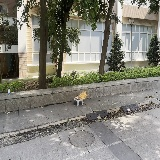fire: (78, 91, 88, 100)
